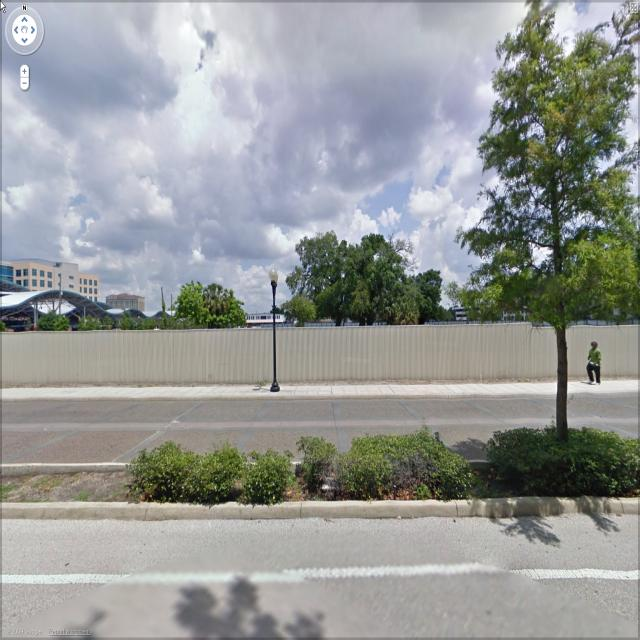b_1: (2, 248, 104, 298), (104, 284, 158, 320)
